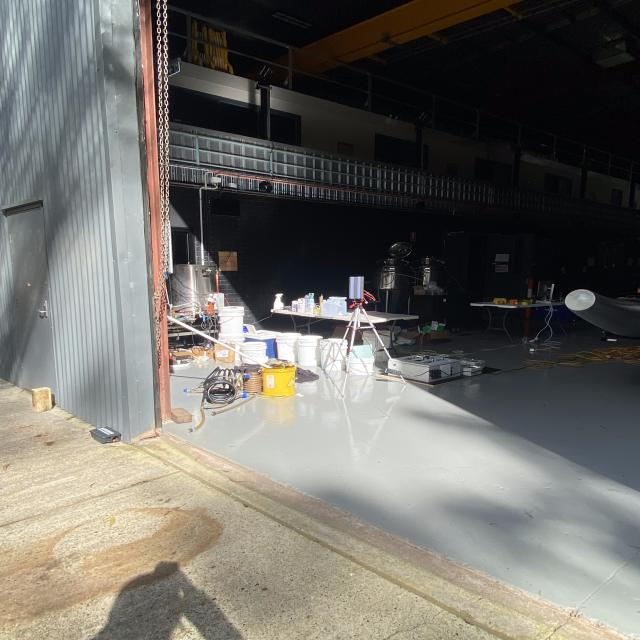matrix: (347, 275, 368, 301)
